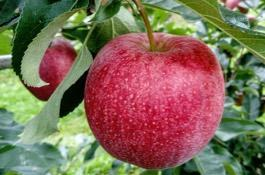apple: (86, 32, 224, 165), (20, 38, 80, 102)
